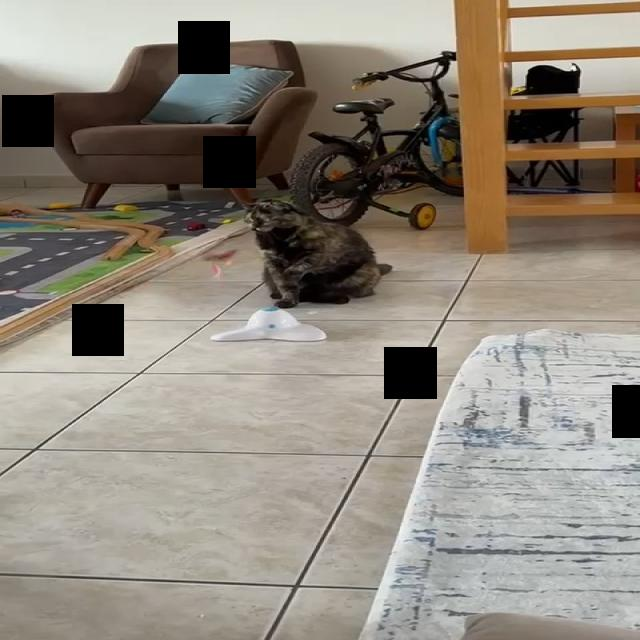authorized: (241, 198, 392, 308)
